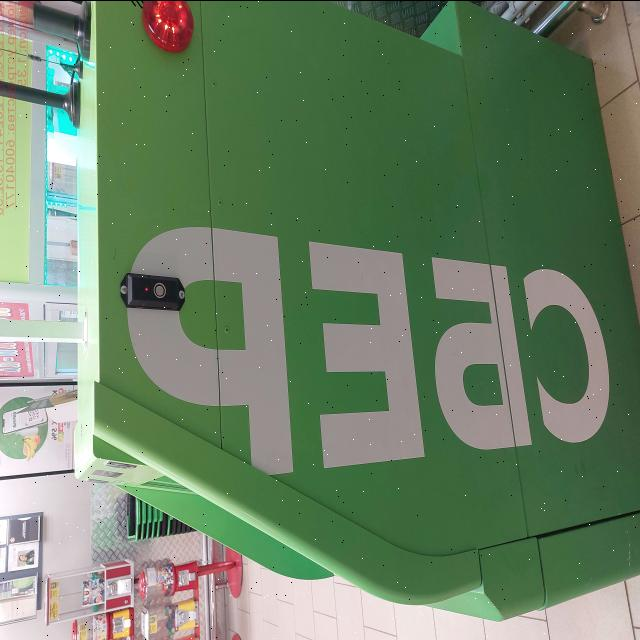bank: (71, 0, 640, 628)
